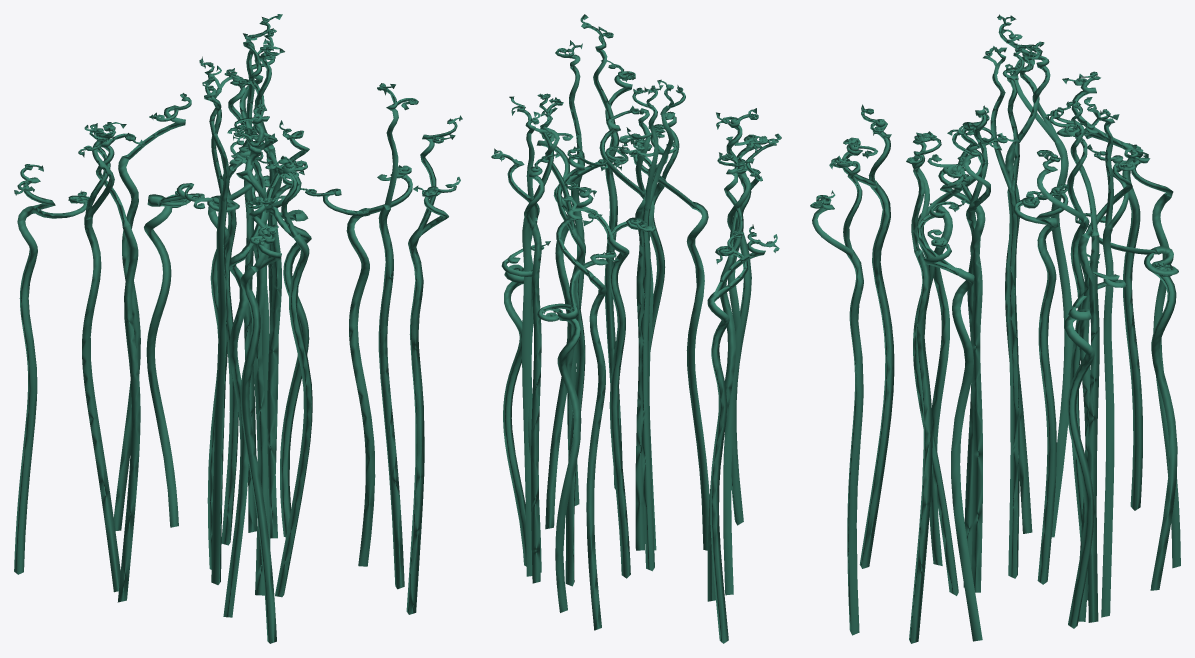
Rendered from Gras.fbx.
The picture shows the model from 3 angles, left to right: view 1: azimuth 30°, elevation 25°; view 2: azimuth 150°, elevation 25°; view 3: azimuth 270°, elevation 25°; orthographic projection. The views are drawn at different scales.
Visible parts, largest first — view 1: Grass; view 2: Grass; view 3: Grass.
Part boxes in pixels (left/top/right/bottom): Grass: left=14, top=14, right=462, bottom=643; Grass: left=491, top=14, right=781, bottom=643; Grass: left=810, top=14, right=1180, bottom=643.
Bounding box in the file's own units: 2.32 × 3.52 × 2.24.
